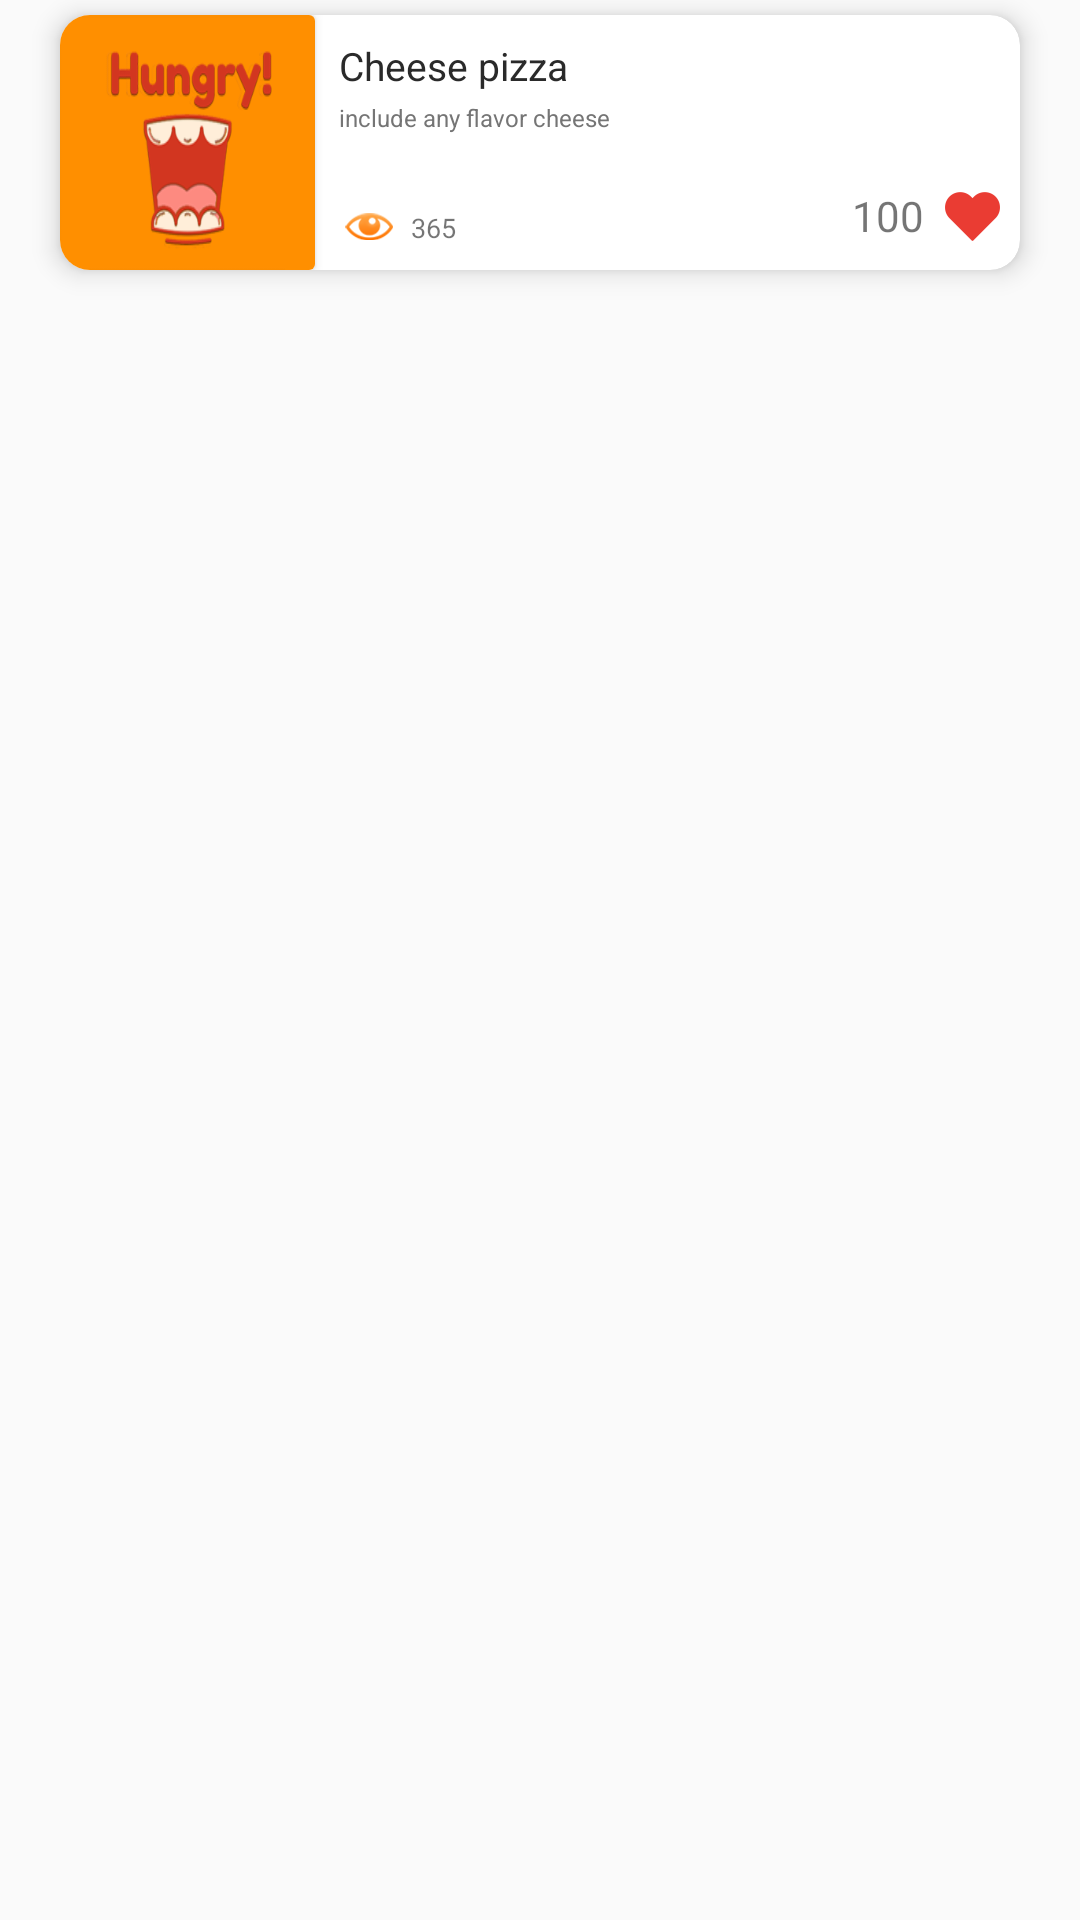

Where to tap for icons on this 1080x1920 app screen, as point (x, y):
like: point (972, 216)
watch: point (369, 226)
